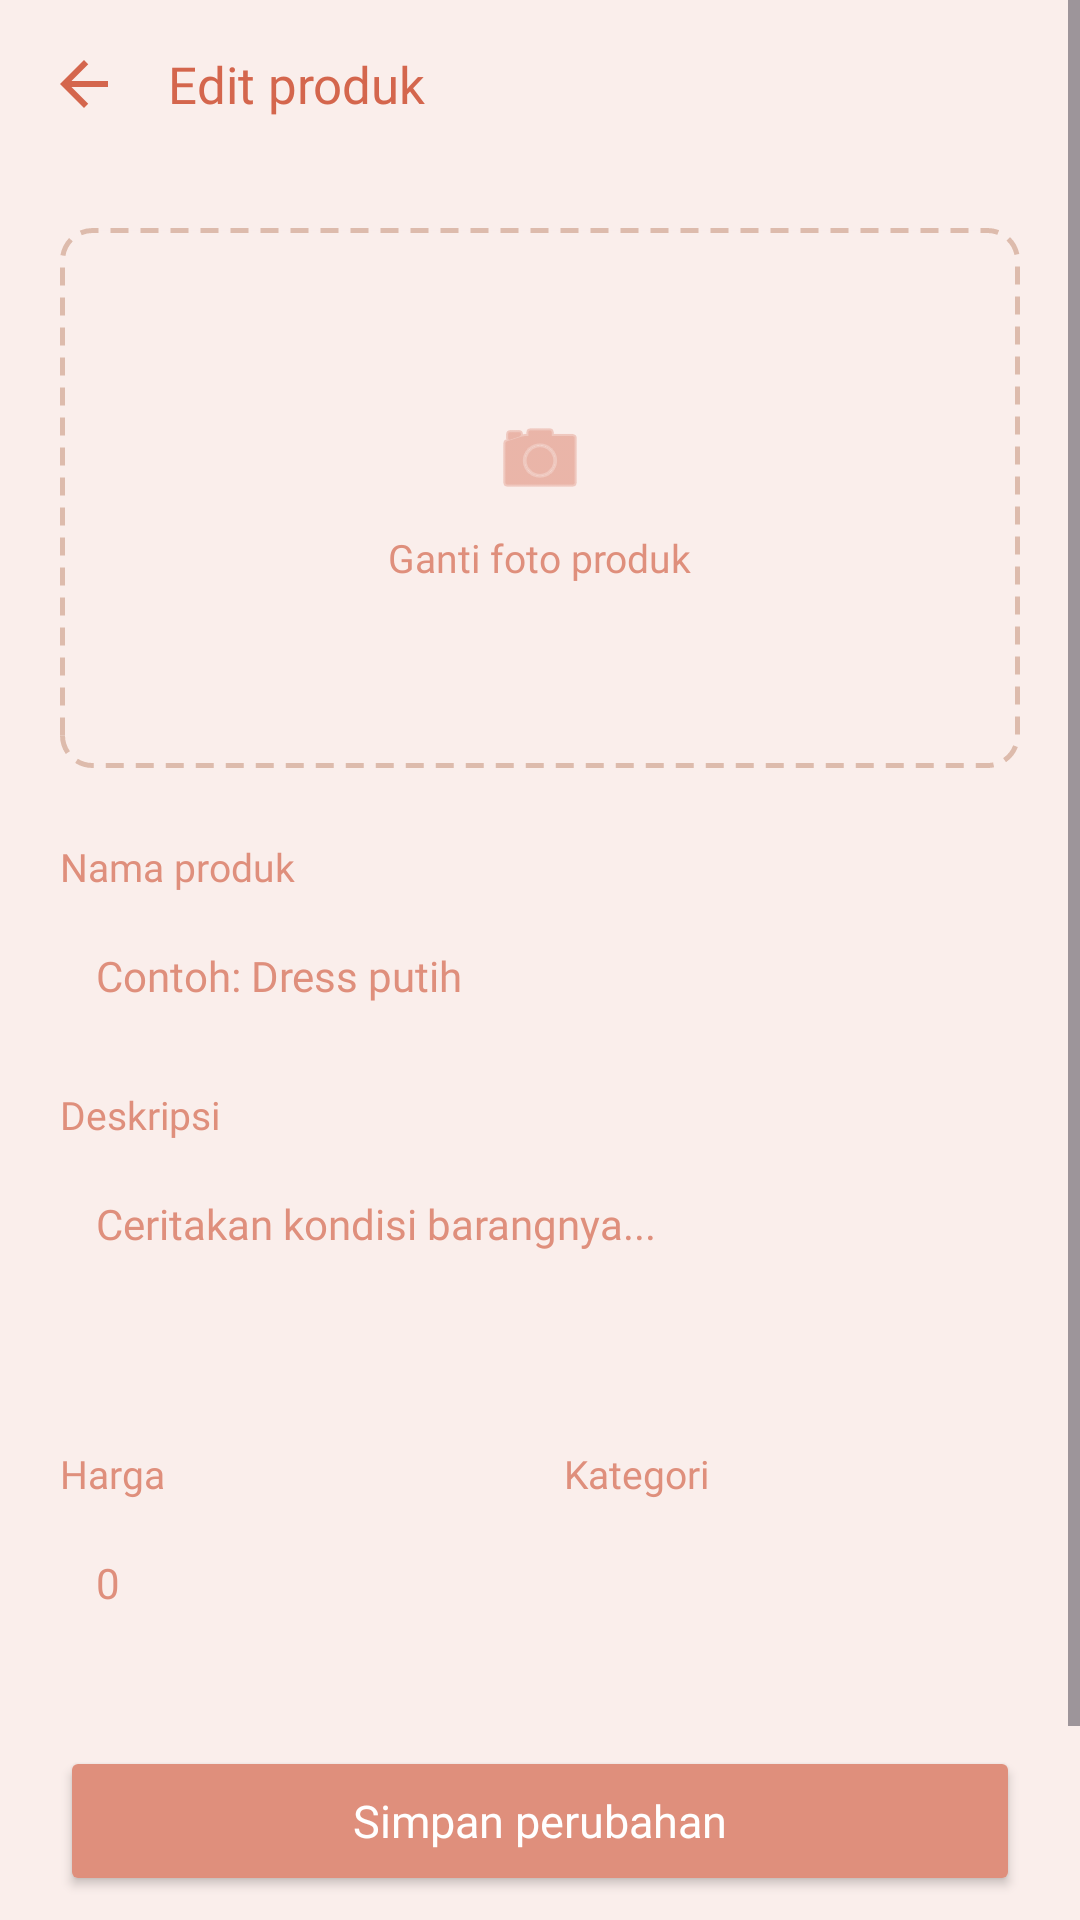

Icons on this 1080px×1920px Android screen, each with the point to tap as (x=x, y=y):
camera: (x=540, y=457)
Kembali: (x=84, y=84)
